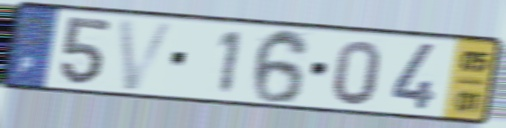0: (327, 36, 385, 108)
1: (214, 30, 245, 96)
4: (388, 40, 441, 113)
5: (58, 13, 115, 88)
6: (249, 25, 313, 107)
V: (115, 17, 181, 93)
